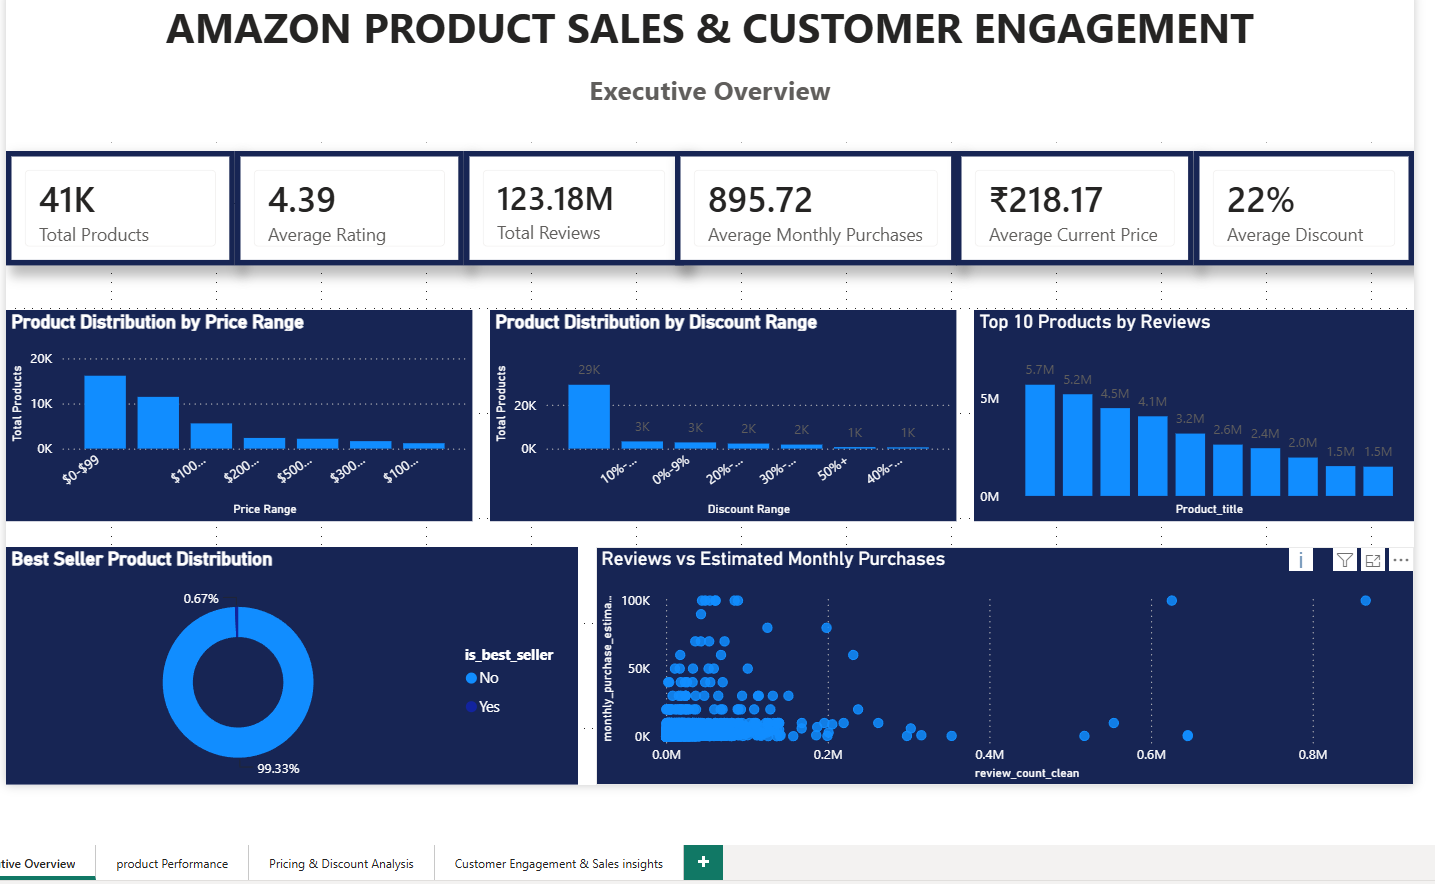

Layout of this report page (visuals, bound fields, positions):
{"tool":"powerbi","page":{"name":"Executive Overview","canvas":[1280,720],"ordinal":0},"visuals":[{"type":"textbox","box":[0,0,1280,136],"z":0},{"type":"cardVisual","fields":{"Data":["Final clean sheet.Total Products","Final clean sheet.Total Products"]},"box":[0,144,208,104],"z":1000},{"type":"cardVisual","fields":{"Data":["Final clean sheet.Average Rating"]},"box":[208,144,208,104],"z":2000},{"type":"cardVisual","fields":{"Data":["Final clean sheet.Total Reviews"]},"box":[416,144,200,104],"z":3000},{"type":"cardVisual","fields":{"Data":["Final clean sheet.Average Monthly Purchases"]},"box":[608,144,256,104],"z":4000},{"type":"cardVisual","fields":{"Data":["Final clean sheet.Average Current Price"]},"box":[864,144,216,104],"z":5000},{"type":"cardVisual","fields":{"Data":["Final clean sheet.Average Discount"]},"box":[1080,144,200,104],"z":6000},{"type":"clusteredColumnChart","title":"Product Distribution by Price Range","fields":{"Category":["Final clean sheet.Price Range"],"Y":["Final clean sheet.Total Products"]},"box":[0,288,424,192],"z":7000},{"type":"clusteredColumnChart","title":"Product Distribution by Discount Range","fields":{"Y":["Final clean sheet.Total Products"],"Category":["Final clean sheet.Discount Range"]},"box":[440,288,424,192],"z":8000},{"type":"clusteredColumnChart","title":"Top 10 Products by Reviews","fields":{"Category":["Final clean sheet.Product_title"],"Y":["Sum(Final clean sheet.review_count_clean)"]},"box":[880,288,400,192],"z":9000},{"type":"donutChart","title":"Best Seller Product Distribution","fields":{"Category":["Final clean sheet.is_best_seller"],"Y":["Final clean sheet.Total Products"]},"box":[0,504,520,216],"z":10000},{"type":"scatterChart","title":"Reviews vs Estimated Monthly Purchases","fields":{"X":["Final clean sheet.review_count_clean"],"Y":["Final clean sheet.monthly_purchase_estimate"]},"box":[536,504,744,216],"z":11000}]}

Visuals, with their boxes in screenshot pixels (x1, y1, x2, y2):
textbox: x1=0, y1=0, x2=1415, y2=139
cardVisual - Final clean sheet.Total Products x Final clean sheet.Total Products: x1=0, y1=148, x2=230, y2=263
cardVisual - Final clean sheet.Average Rating: x1=230, y1=148, x2=460, y2=263
cardVisual - Final clean sheet.Total Reviews: x1=460, y1=148, x2=681, y2=263
cardVisual - Final clean sheet.Average Monthly Purchases: x1=672, y1=148, x2=955, y2=263
cardVisual - Final clean sheet.Average Current Price: x1=955, y1=148, x2=1194, y2=263
cardVisual - Final clean sheet.Average Discount: x1=1194, y1=148, x2=1415, y2=263
"Product Distribution by Price Range" clusteredColumnChart: x1=0, y1=307, x2=469, y2=519
"Product Distribution by Discount Range" clusteredColumnChart: x1=486, y1=307, x2=955, y2=519
"Top 10 Products by Reviews" clusteredColumnChart: x1=973, y1=307, x2=1415, y2=519
"Best Seller Product Distribution" donutChart: x1=0, y1=546, x2=575, y2=785
"Reviews vs Estimated Monthly Purchases" scatterChart: x1=593, y1=546, x2=1415, y2=785
